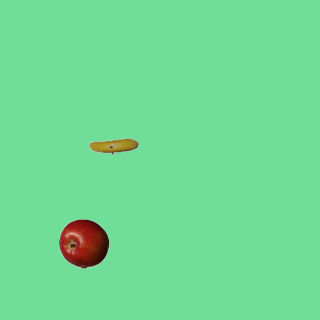Apple Braeburn: (58, 218, 108, 268)
Banana: (88, 121, 138, 171)
